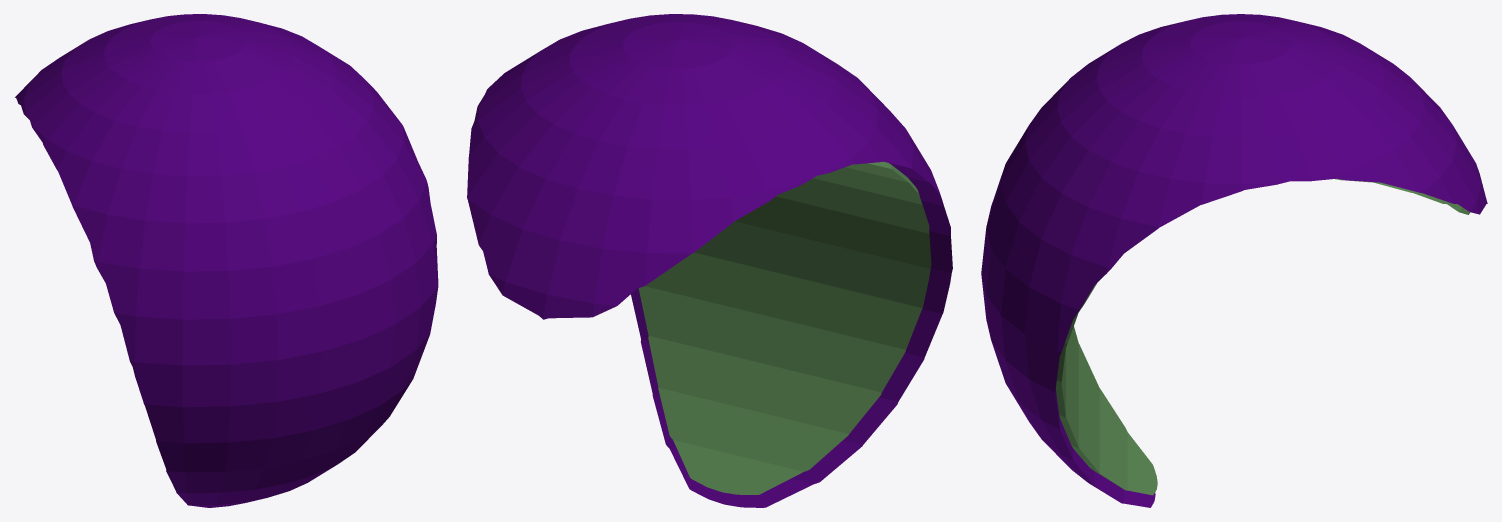
The model's file is cobraHead.fbx.
3 views of the same model, side by side, from view 1: azimuth 30°, elevation 25°; view 2: azimuth 150°, elevation 25°; view 3: azimuth 270°, elevation 25° (orthographic). The views are drawn at different scales.
Parts seen in each view (by area): view 1: Sphere.001; view 2: Sphere.001; view 3: Sphere.001.
Part boxes in pixels (box(x1,y1,x2,y2)): Sphere.001: box(15, 14, 438, 507); Sphere.001: box(467, 14, 952, 507); Sphere.001: box(981, 14, 1487, 507).
Size of the model in its own units: 267 by 333 by 335.
